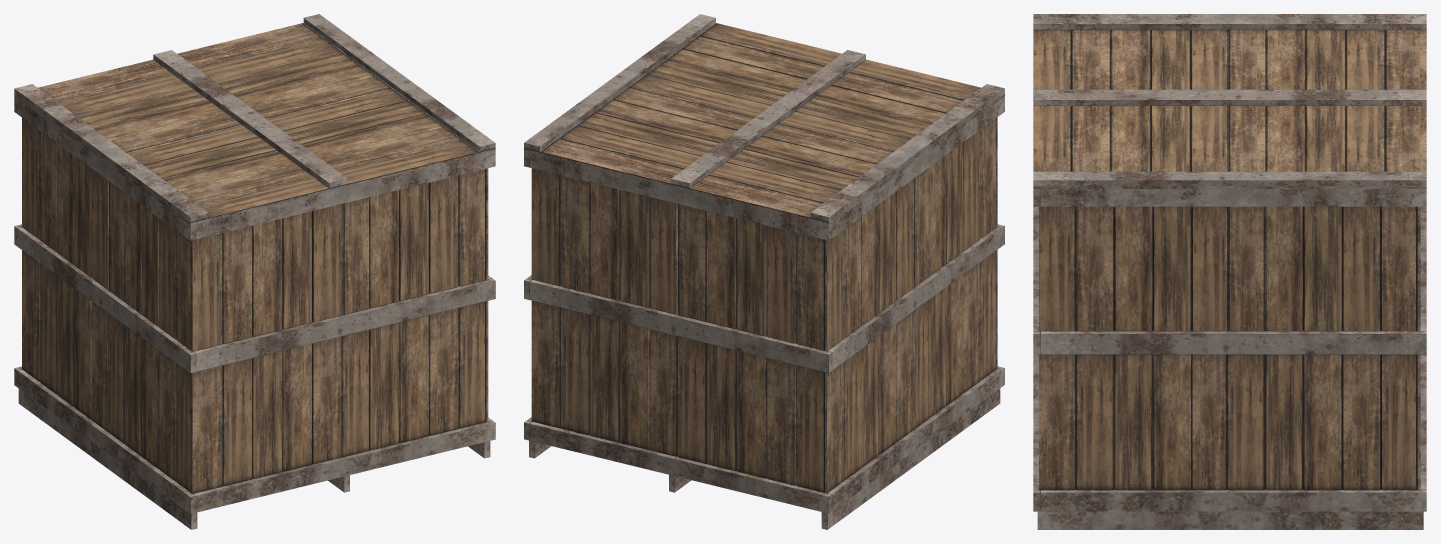
Rendered from Crate01.FBX.
3 renders of one model, left to right at view 1: azimuth 30°, elevation 25°; view 2: azimuth 150°, elevation 25°; view 3: azimuth 270°, elevation 25°, orthographic. The views are drawn at different scales.
Visible parts, largest first — view 1: Crate01; view 2: Crate01; view 3: Crate01.
Part boxes in pixels (bbox=[...]): Crate01: bbox=[14, 14, 495, 529]; Crate01: bbox=[524, 14, 1004, 529]; Crate01: bbox=[1033, 14, 1426, 529].
Size of the model in its own units: 1.36 by 1.34 by 1.36.
